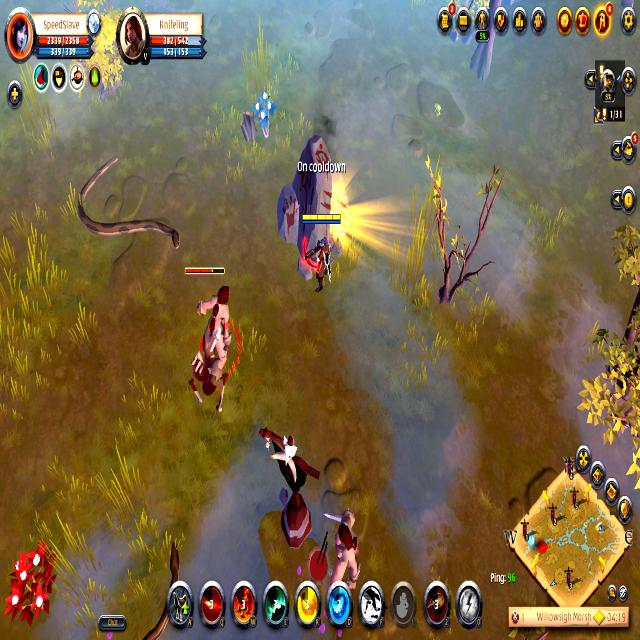hide: (0, 526, 60, 630), (248, 92, 281, 146)
ore: (72, 146, 185, 262), (183, 261, 239, 402), (130, 534, 186, 640), (326, 499, 368, 613)
red: (296, 210, 350, 300)
